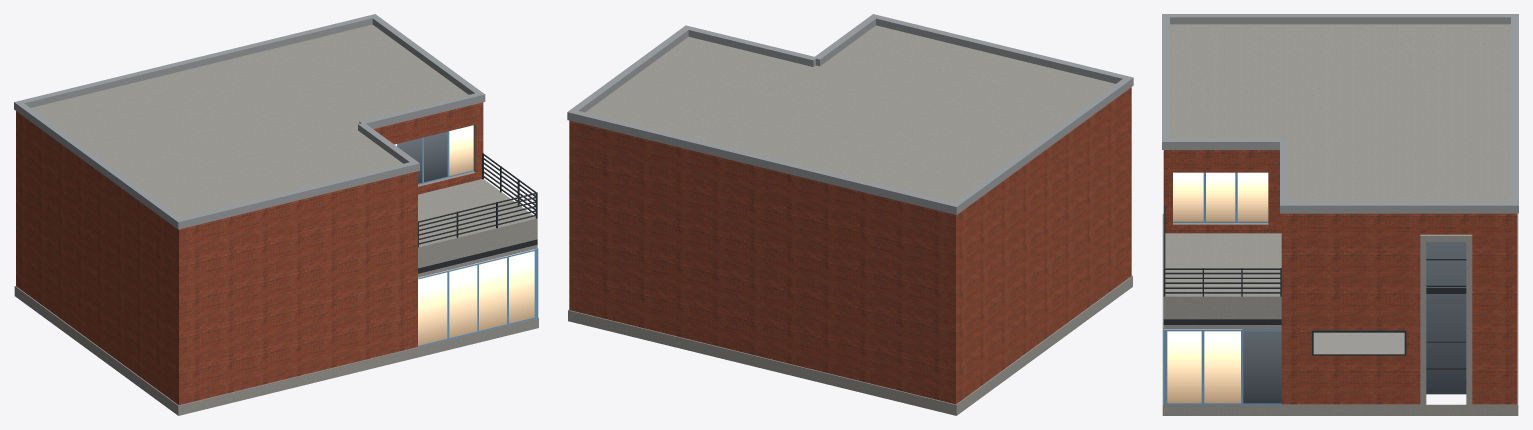
Rendered from campus_moon.glb.
The picture shows the model from 3 angles, left to right: view 1: azimuth 30°, elevation 25°; view 2: azimuth 150°, elevation 25°; view 3: azimuth 270°, elevation 25°; orthographic projection. The views are drawn at different scales.
Parts seen in each view (by area): view 1: moon_brick, moon_conc, moon_cope, moon_glass, moon_metal, moon_frame; view 2: moon_brick, moon_conc, moon_cope; view 3: moon_conc, moon_brick, moon_glass, moon_cope, moon_metal, PLATE_FACE_MOON, moon_frame.
Boxes of the visible parts, box(x1,y1,x2,y2) form: moon_brick: box(16, 102, 483, 405); moon_conc: box(14, 24, 538, 415); moon_cope: box(14, 14, 485, 229); moon_glass: box(394, 125, 537, 346); moon_metal: box(418, 153, 537, 273); moon_frame: box(397, 131, 538, 347); moon_brick: box(569, 87, 1131, 404); moon_conc: box(568, 25, 1132, 415); moon_cope: box(567, 14, 1133, 214); moon_conc: box(1162, 24, 1518, 415); moon_brick: box(1163, 150, 1517, 404); moon_glass: box(1164, 172, 1466, 403); moon_cope: box(1162, 14, 1518, 213); moon_metal: box(1163, 205, 1466, 369); PLATE_FACE_MOON: box(1313, 332, 1404, 354); moon_frame: box(1163, 172, 1281, 404).
Bounding box in the file's own units: 16.98 × 8.68 × 13.32.
Materials: 7 (2 with a texture image).
